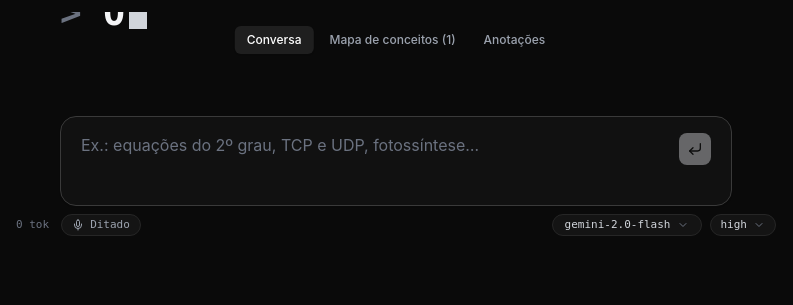
Scenario: SessionView Integration › brings the centred field back with the text when the session fails to start
Type "Tema" into the text box with placeholder "Ex.: equações do 2º grau, TCP e UDP, fotossíntese…".
click(376, 161); type("Tema")  # box [81, 133, 671, 189]
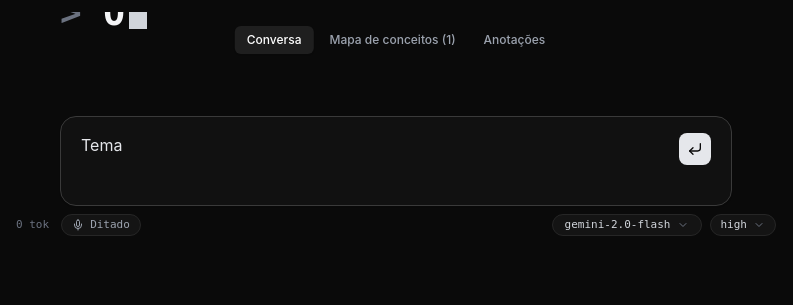
Click the button named "começar".
click(695, 149)  # box [679, 133, 711, 165]
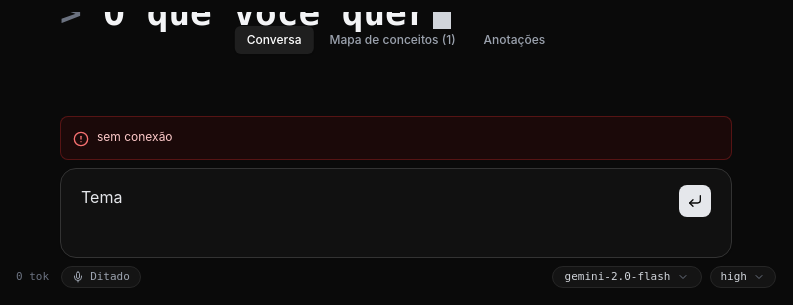
Now the message reads "sem conexão", box [97, 129, 173, 144]
